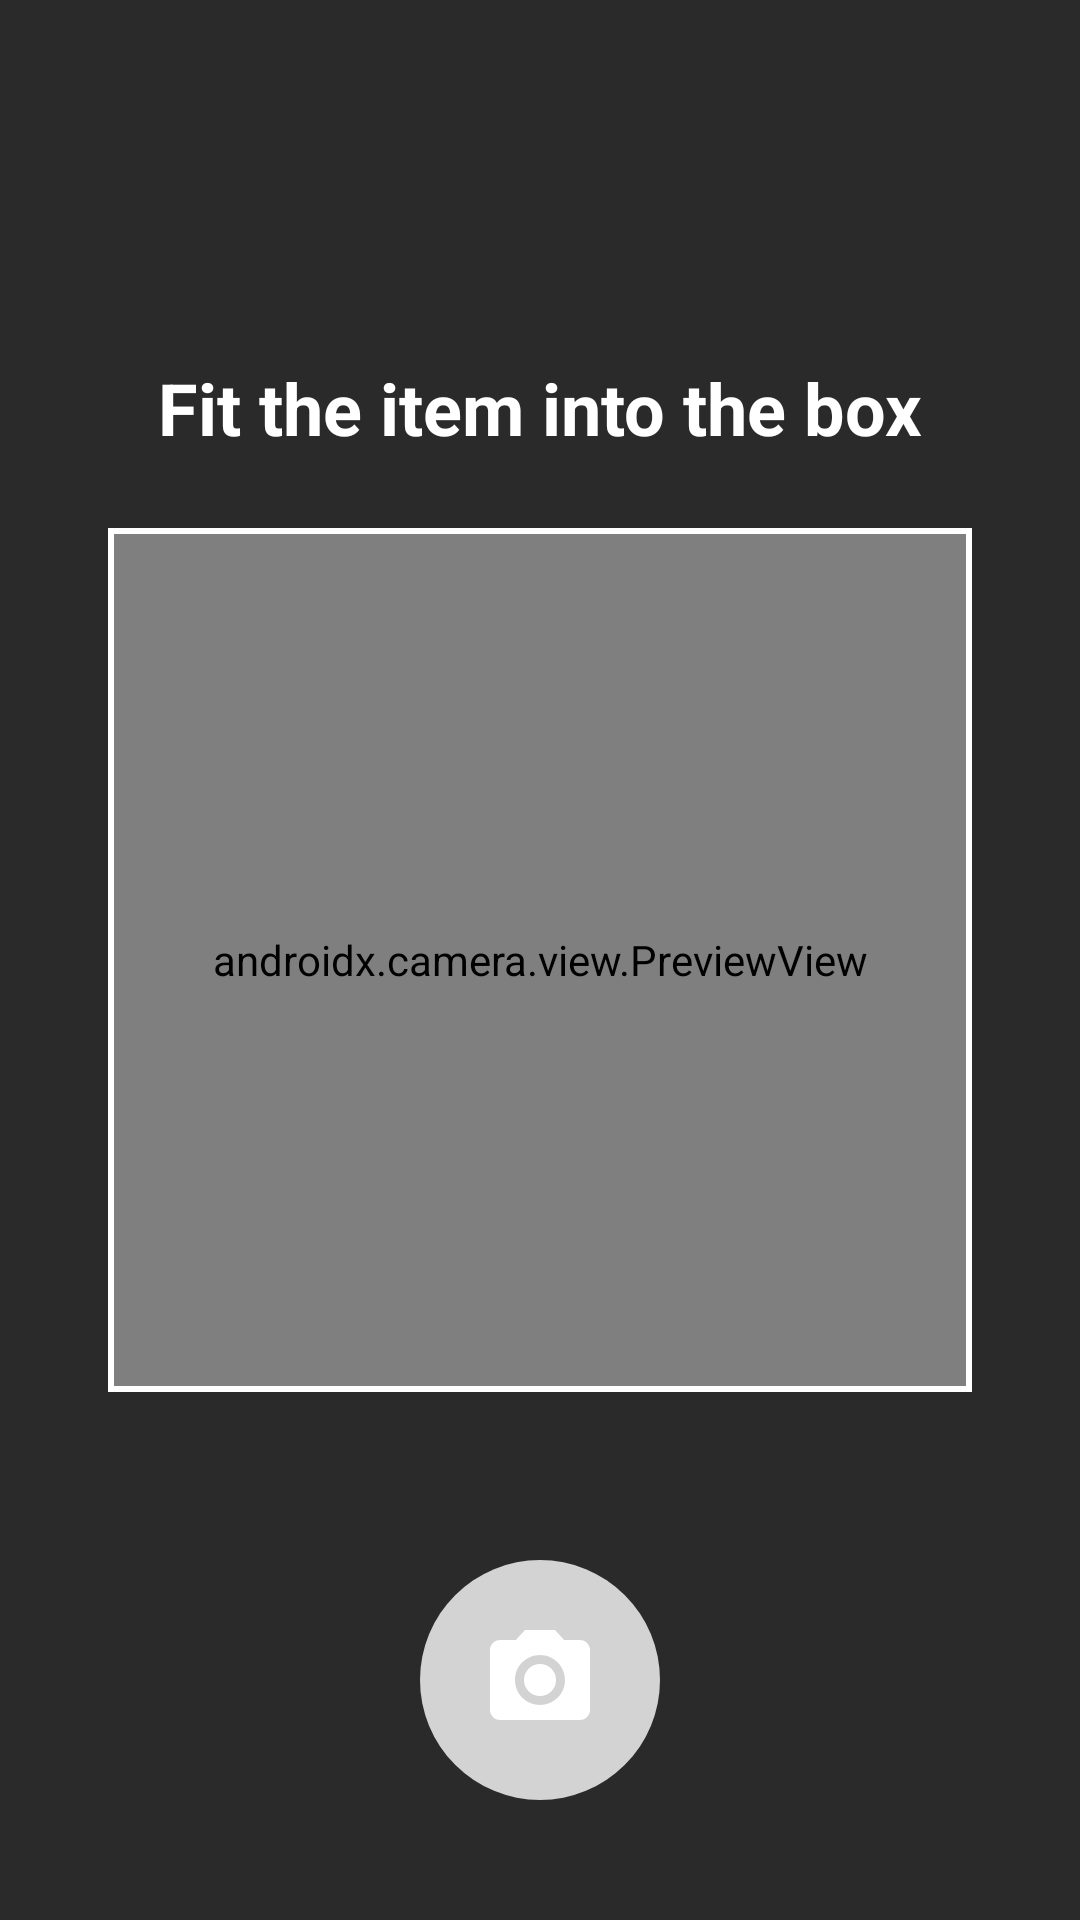

Where icons sit on this 1080px×1920px app screen, as (left=x1, top=y1, right=x2, bottom=y2):
Capture: (left=420, top=1560, right=660, bottom=1800)
